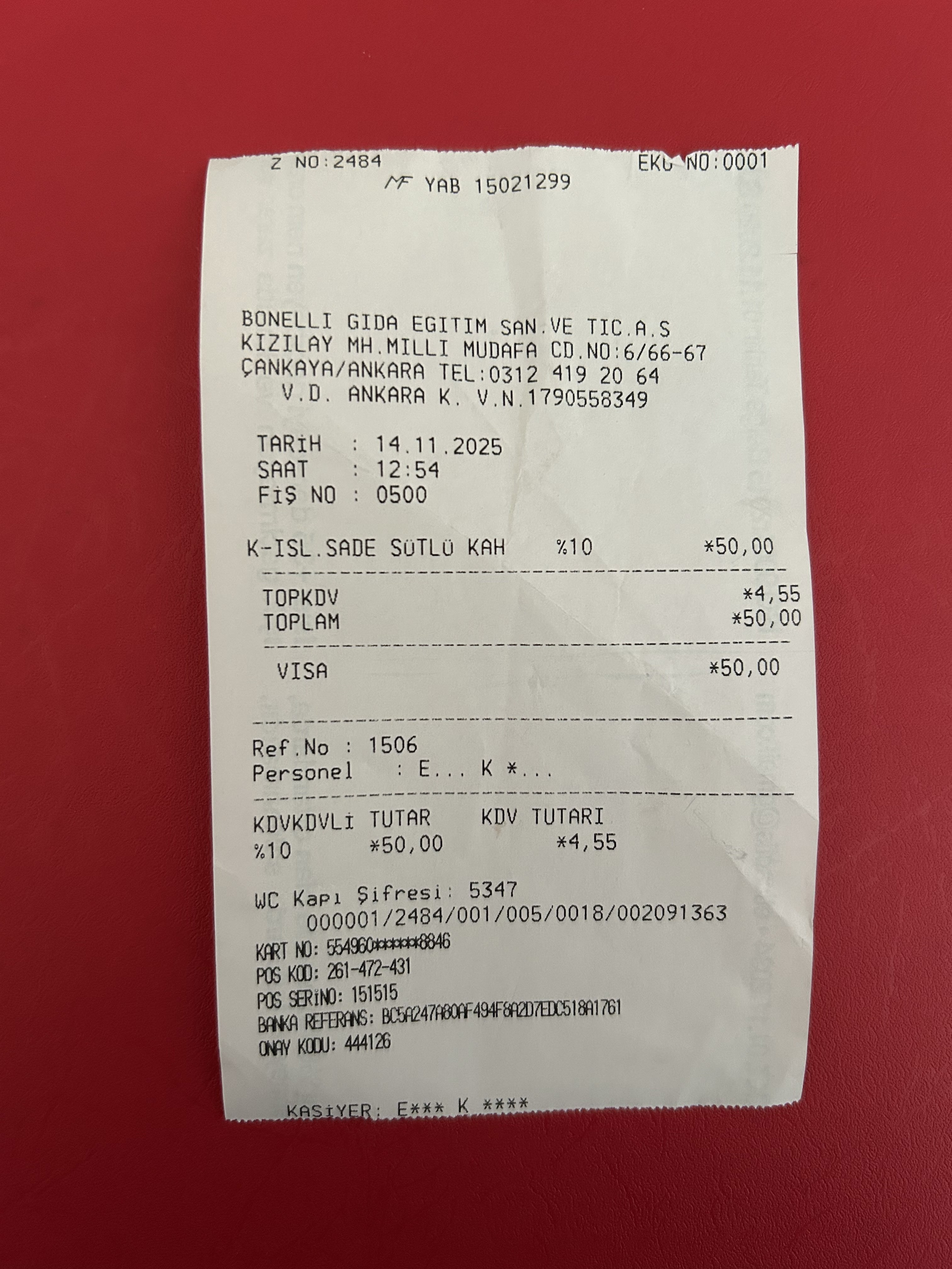date: (369, 427, 505, 457)
price: (736, 602, 806, 634)
workplace: (225, 299, 742, 389)
